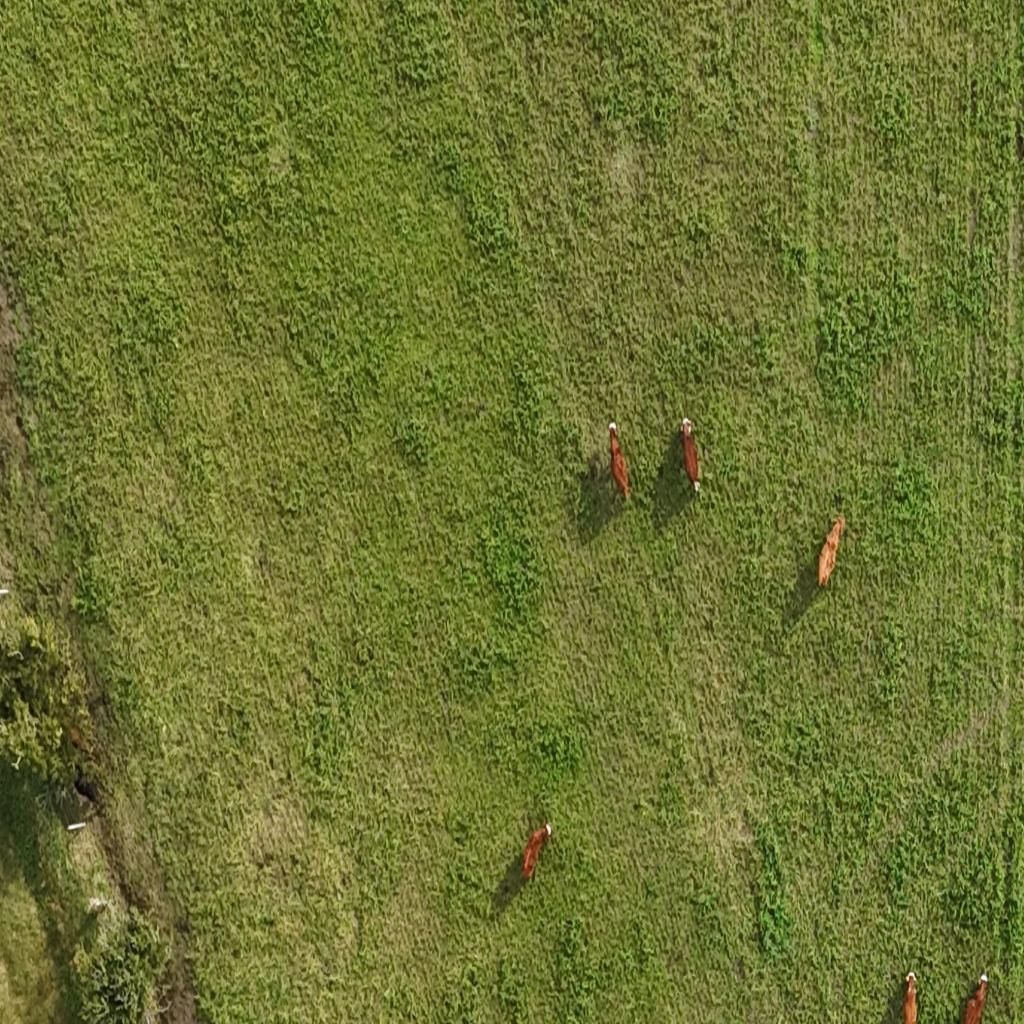cow: (814, 500, 846, 594), (598, 417, 630, 508), (518, 816, 556, 892), (676, 415, 702, 499), (960, 969, 992, 1024), (898, 968, 922, 1024)
